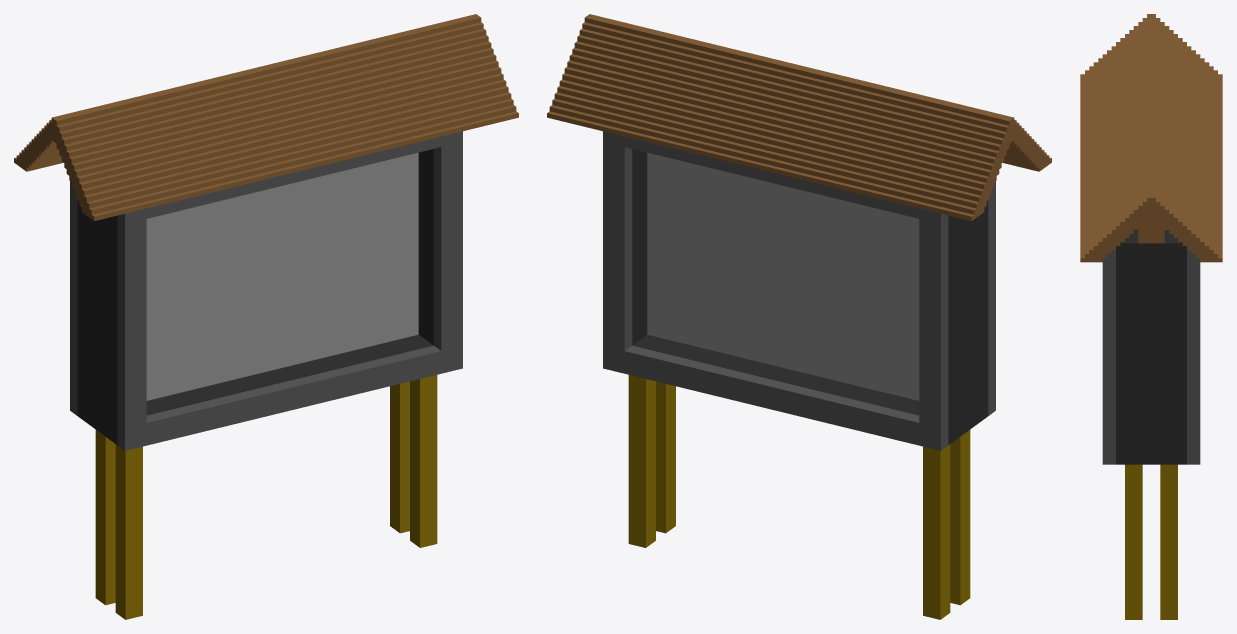
File: Papan Informasi-1.obj
3 renders of one model, left to right at view 1: azimuth 30°, elevation 25°; view 2: azimuth 150°, elevation 25°; view 3: azimuth 270°, elevation 25°, orthographic. The views are drawn at different scales.
Bounding box in the file's own units: 9.8 × 11.1 × 3.2.
1 material, 1 textured.
